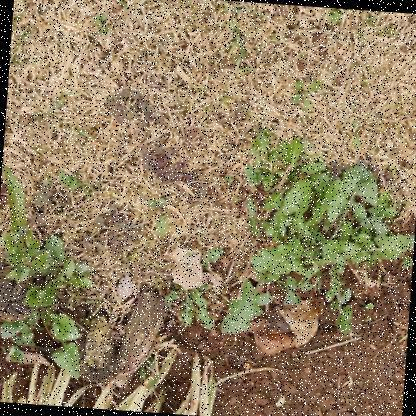Weeds: (220, 133, 415, 350), (0, 181, 98, 380), (163, 244, 223, 330), (289, 75, 322, 113), (140, 196, 169, 237)
